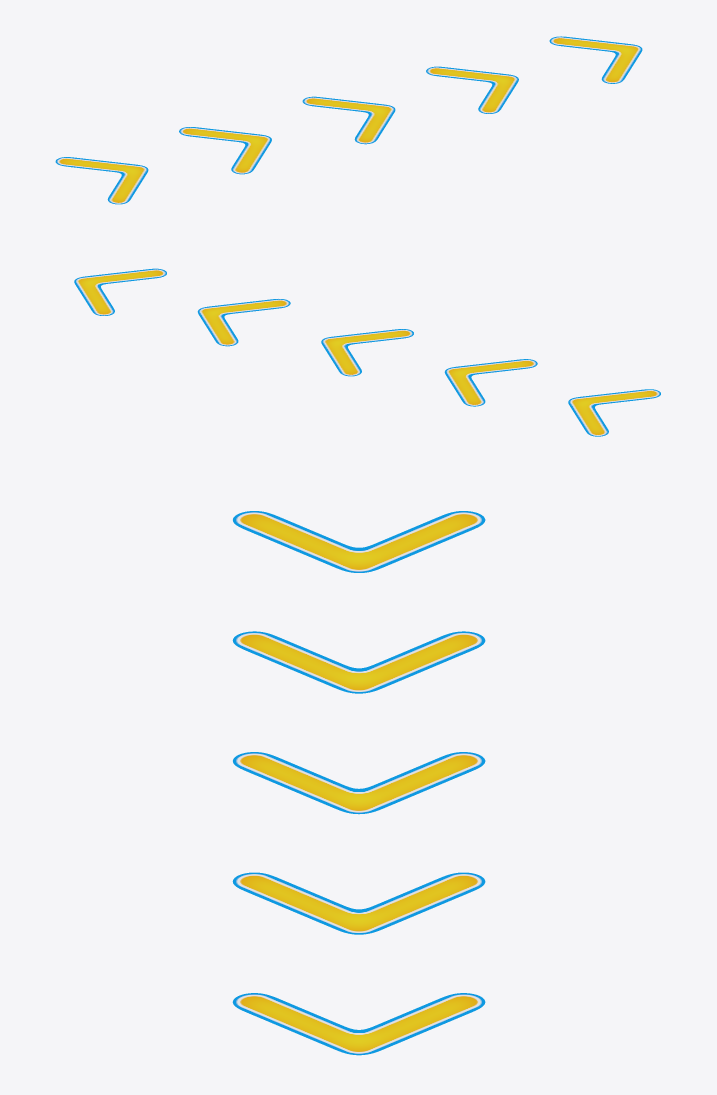
Rendered from arrow__003.fbx.
3 renders of one model, top to bottom at view 1: azimuth 30°, elevation 25°; view 2: azimuth 150°, elevation 25°; view 3: azimuth 270°, elevation 25°, orthographic. The views are drawn at different scales.
Parts seen in each view (by area): view 1: pPlane2; view 2: pPlane2; view 3: pPlane2.
Part boxes in pixels (x1,y1,x2,y2): pPlane2: (55, 36, 642, 204); pPlane2: (74, 268, 660, 436); pPlane2: (232, 511, 485, 1055).
Size of the model in its own units: 29.42 by 1.31e-15 by 5.9.
